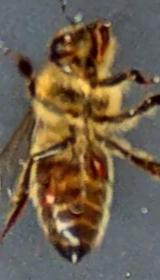varroa_mite: (80, 145, 112, 181), (41, 169, 66, 206)
